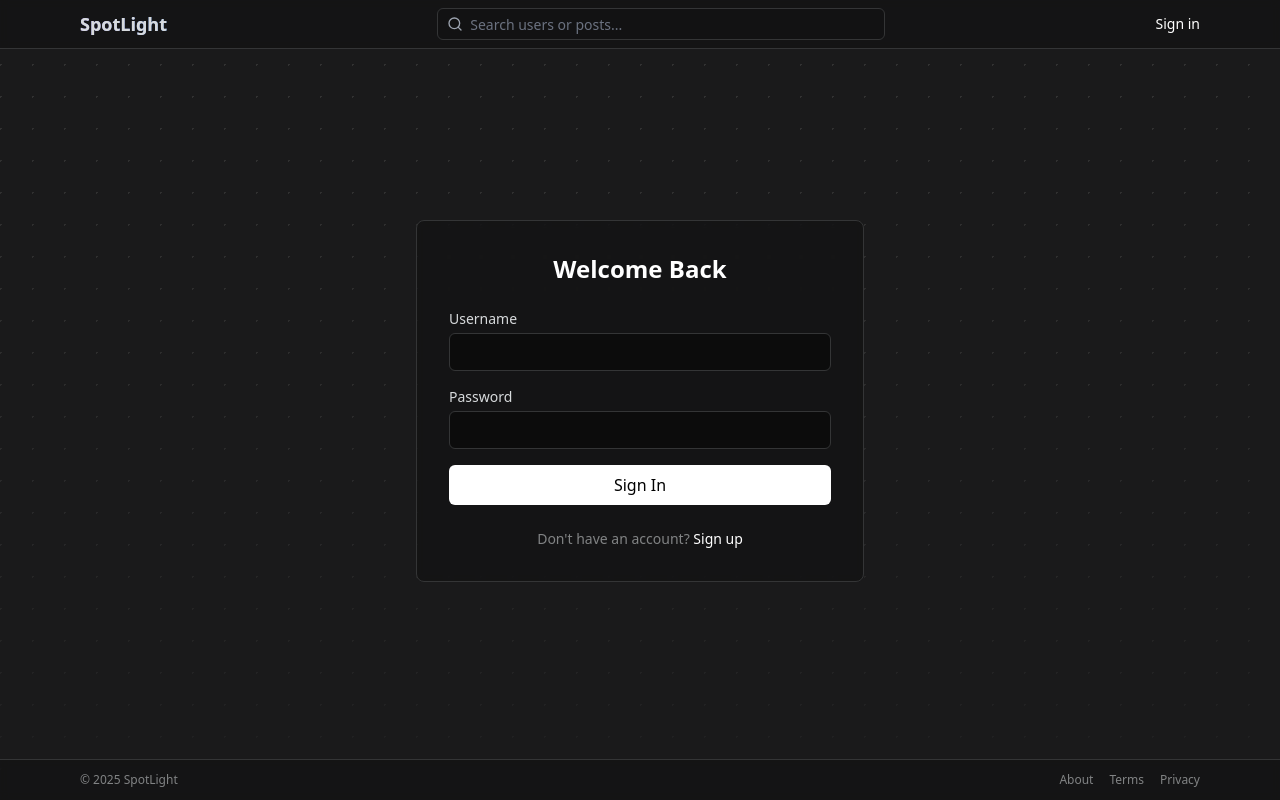
Test: Authentication › Login Form › should switch to register mode when register button is clicked
The image size is (1280, 800).
What coordinates should you click on to do the following:
click the button "Sign up"
I would click on:
 (718, 539)
Its box is left=693, top=529, right=743, bottom=549.
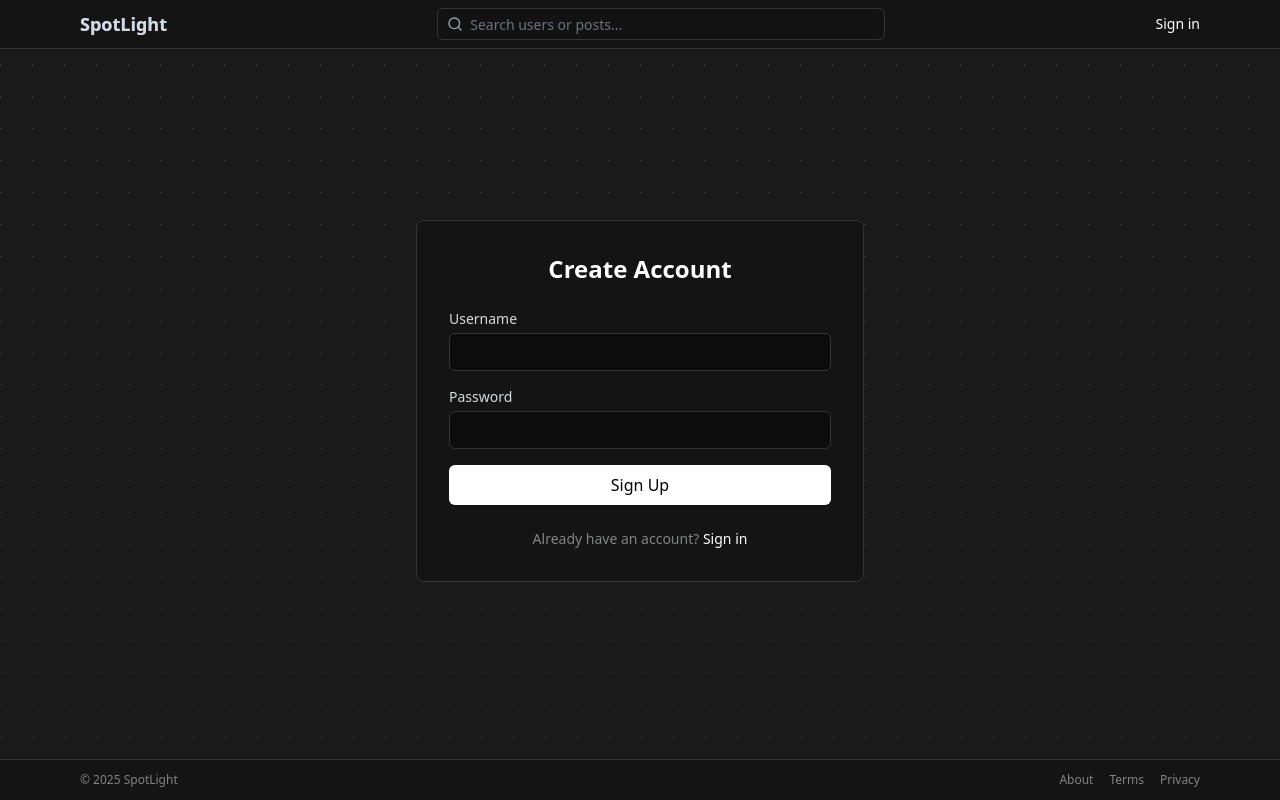
Expected: the heading "Create Account" is shown, left=548, top=252, right=732, bottom=285
Expected: the button "Sign in" is shown, left=703, top=529, right=747, bottom=549
